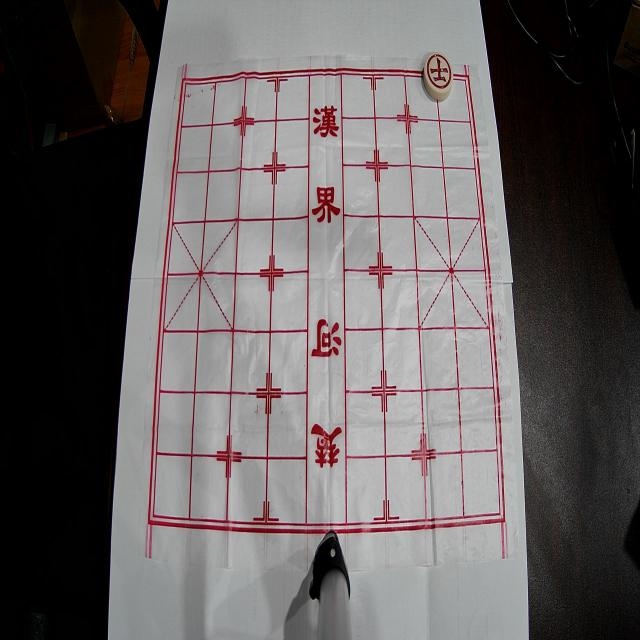red-guard: (423, 52, 453, 100)
